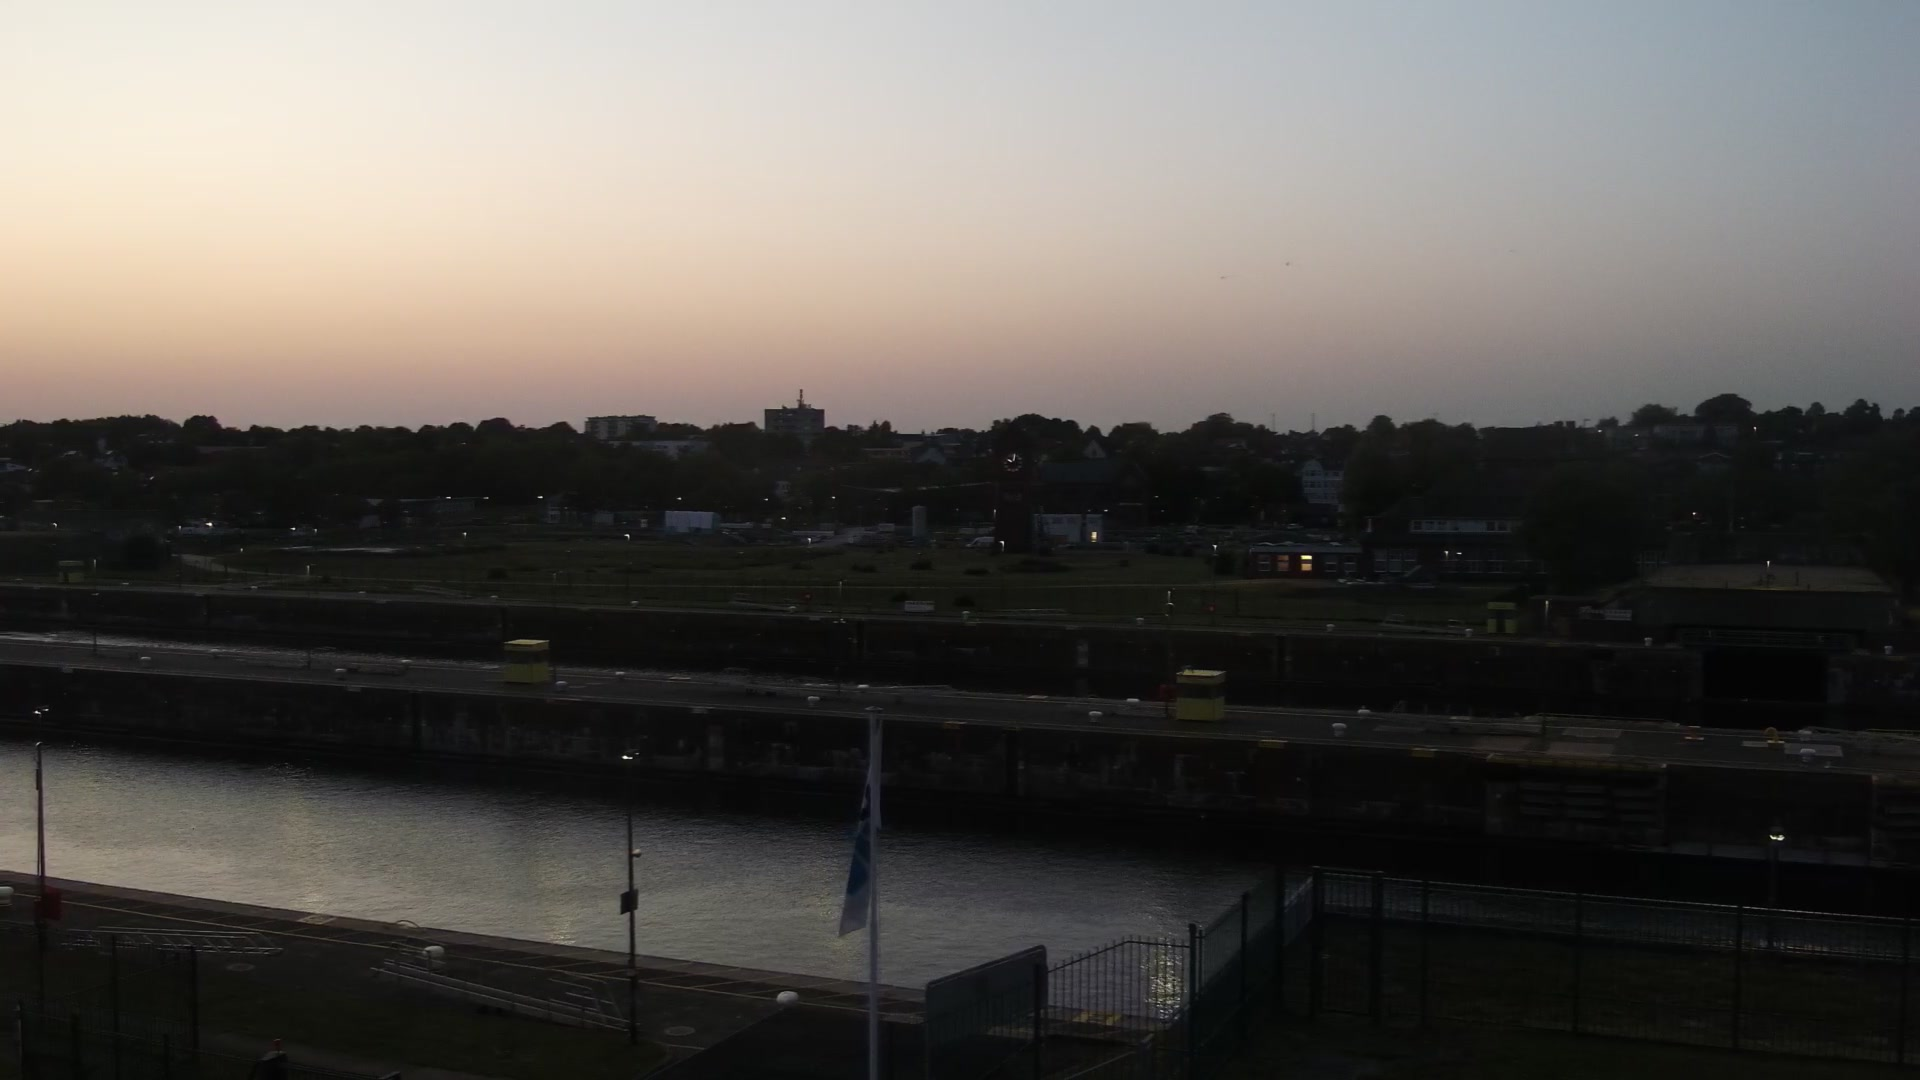land: (965, 535, 996, 549)
